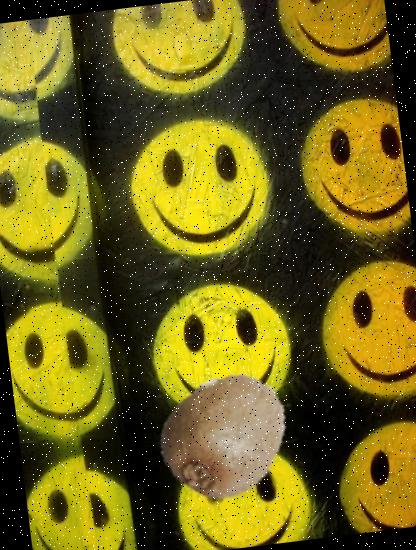Kiwi: (150, 361, 302, 513)
